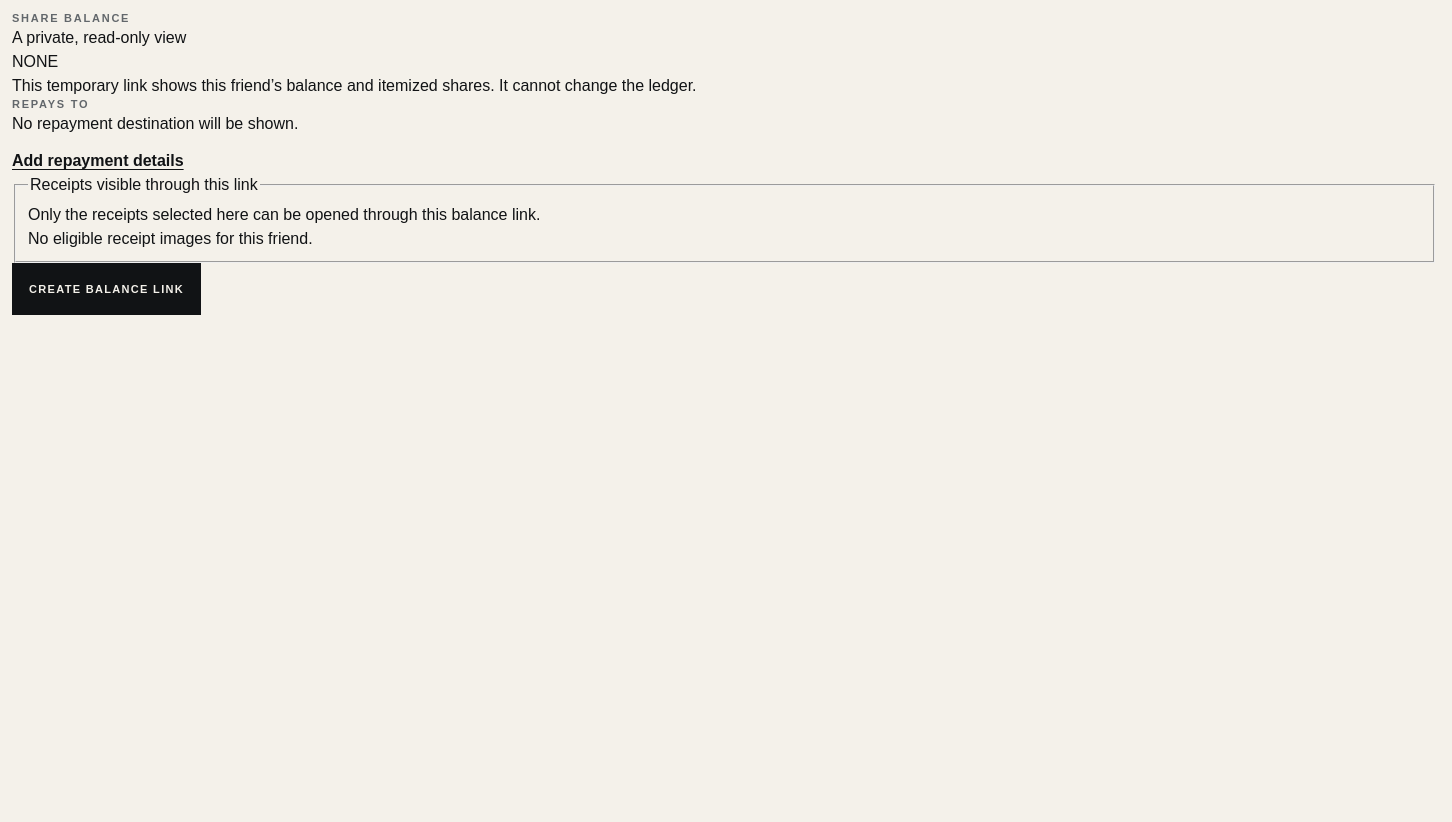
Test: FriendShareLink › does not report Copied when fallback returns false
The image size is (1452, 822).
Submit the form named "Create balance link", box [12, 173, 1437, 315]
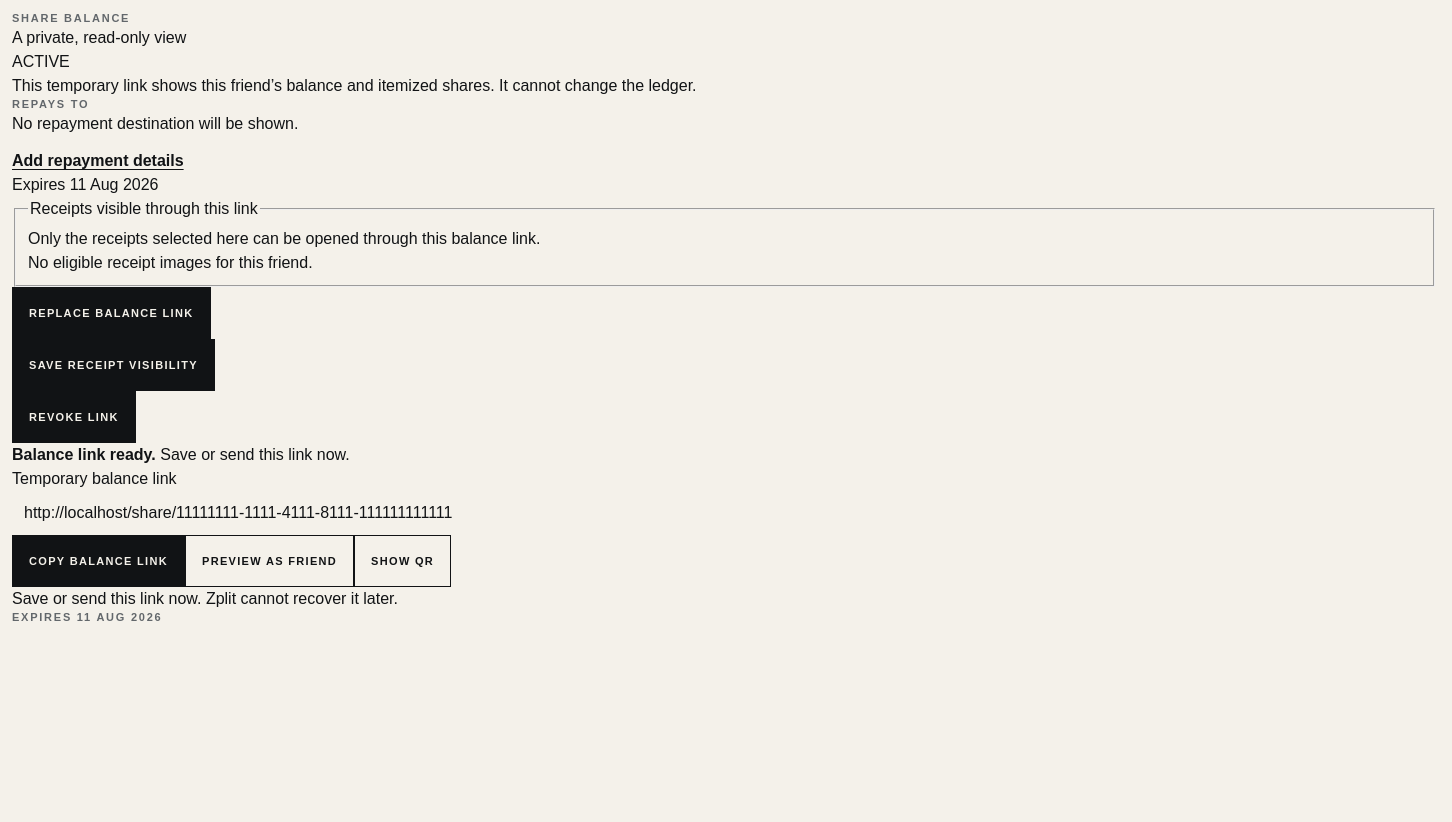
Check: the button "Copy balance link" is shown
Click the button "Copy balance link" at [98, 562], box [12, 536, 185, 588]
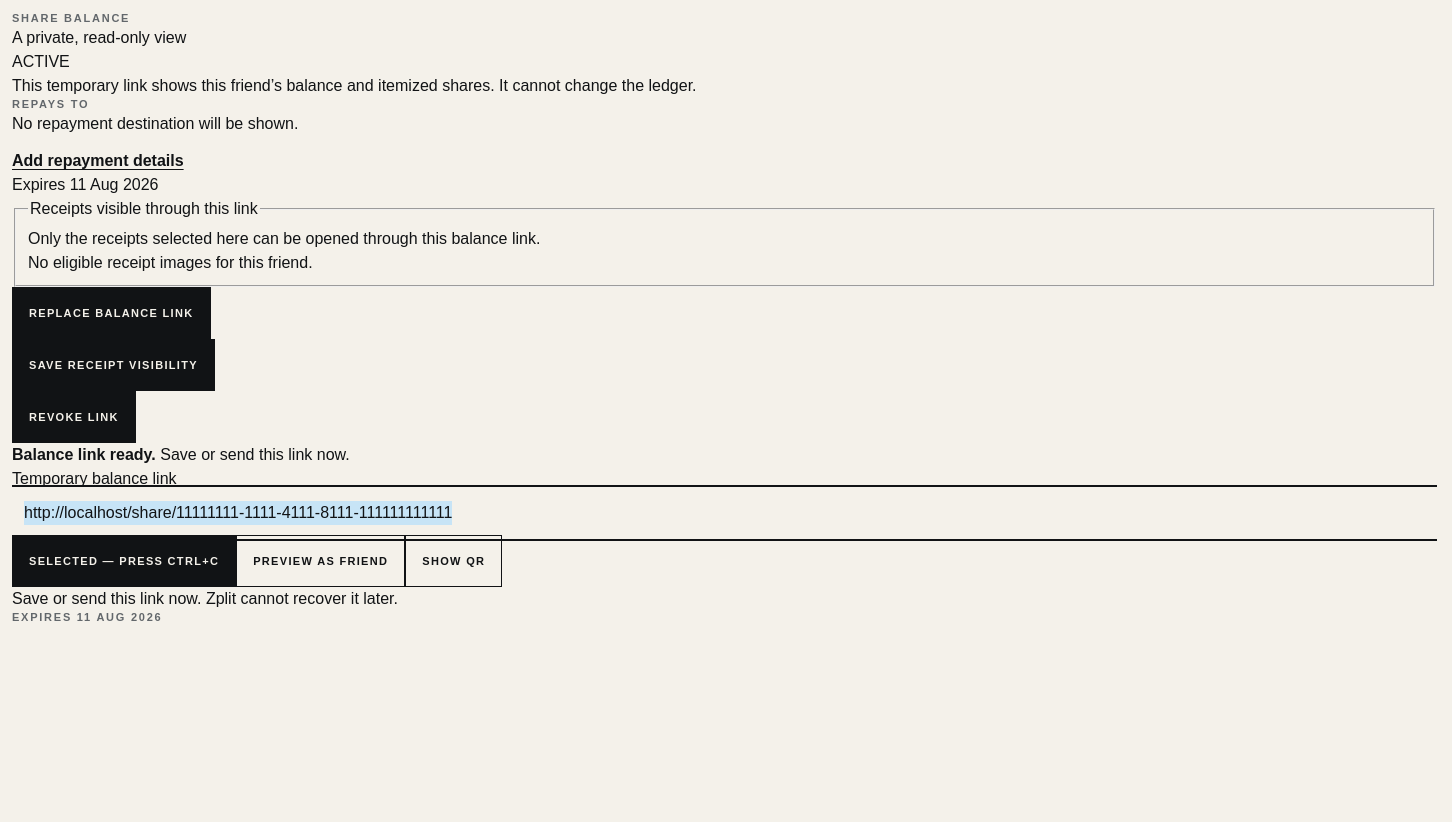
Check: the button "Selected — press Ctrl+C" is shown, box [12, 536, 236, 588]
